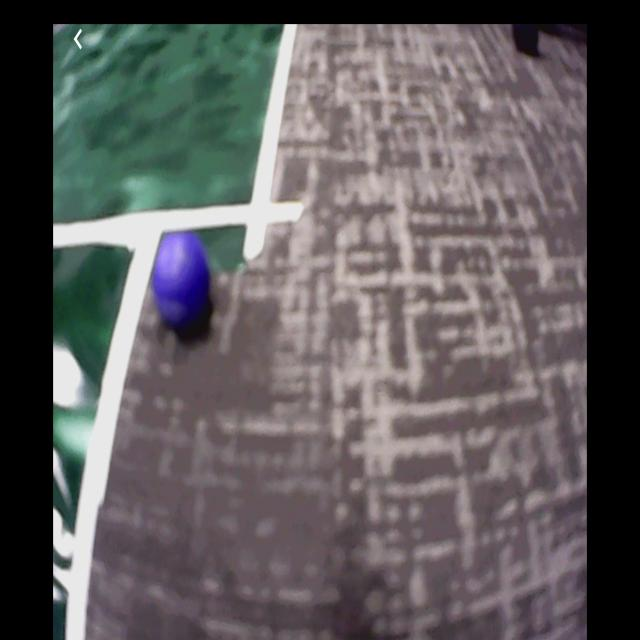ball: (154, 232, 214, 338)
